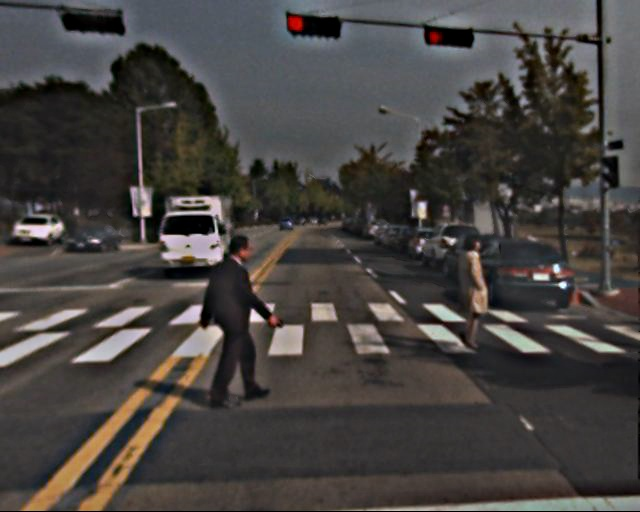person: (196, 235, 268, 410), (447, 235, 494, 350)
